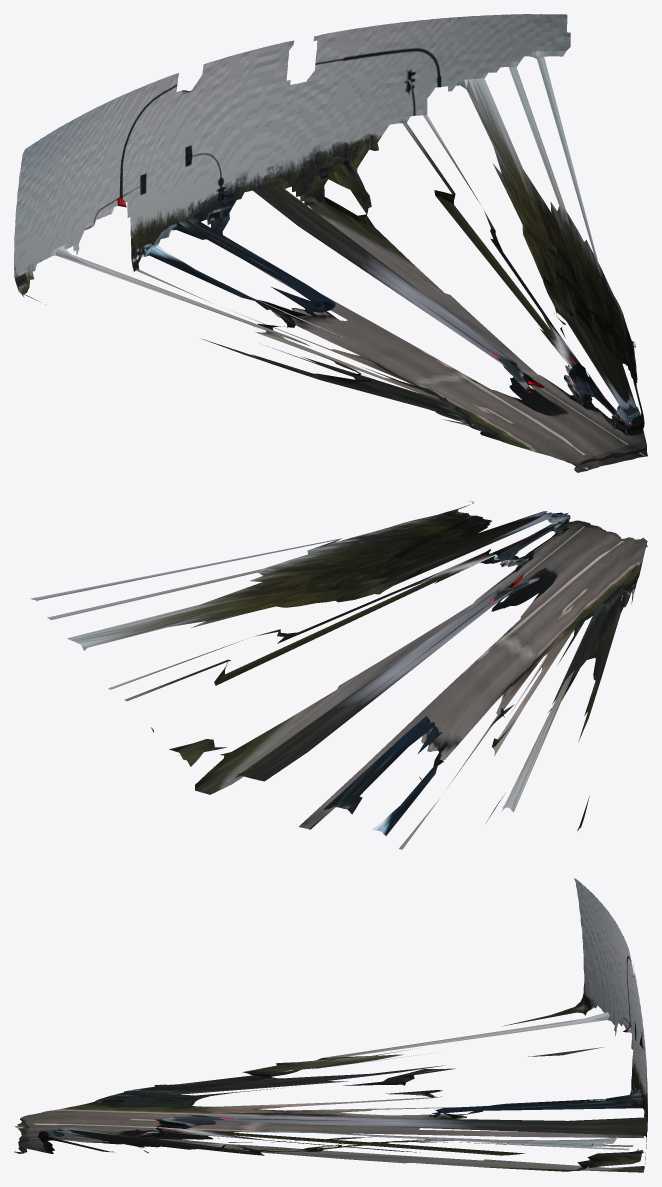
3 views of the same model, one above another, from view 1: azimuth 30°, elevation 25°; view 2: azimuth 150°, elevation 25°; view 3: azimuth 270°, elevation 25° (orthographic). The views are drawn at different scales.
Visible parts, largest first — view 1: defaultobject; view 2: defaultobject; view 3: defaultobject.
Boxes of the visible parts, x1,y1,x2,y2 form: defaultobject: [14, 14, 647, 472]; defaultobject: [30, 501, 647, 849]; defaultobject: [14, 878, 647, 1172].
Bounding box in the file's own units: 40.31 × 13.15 × 44.41.
1 material, 1 textured.
